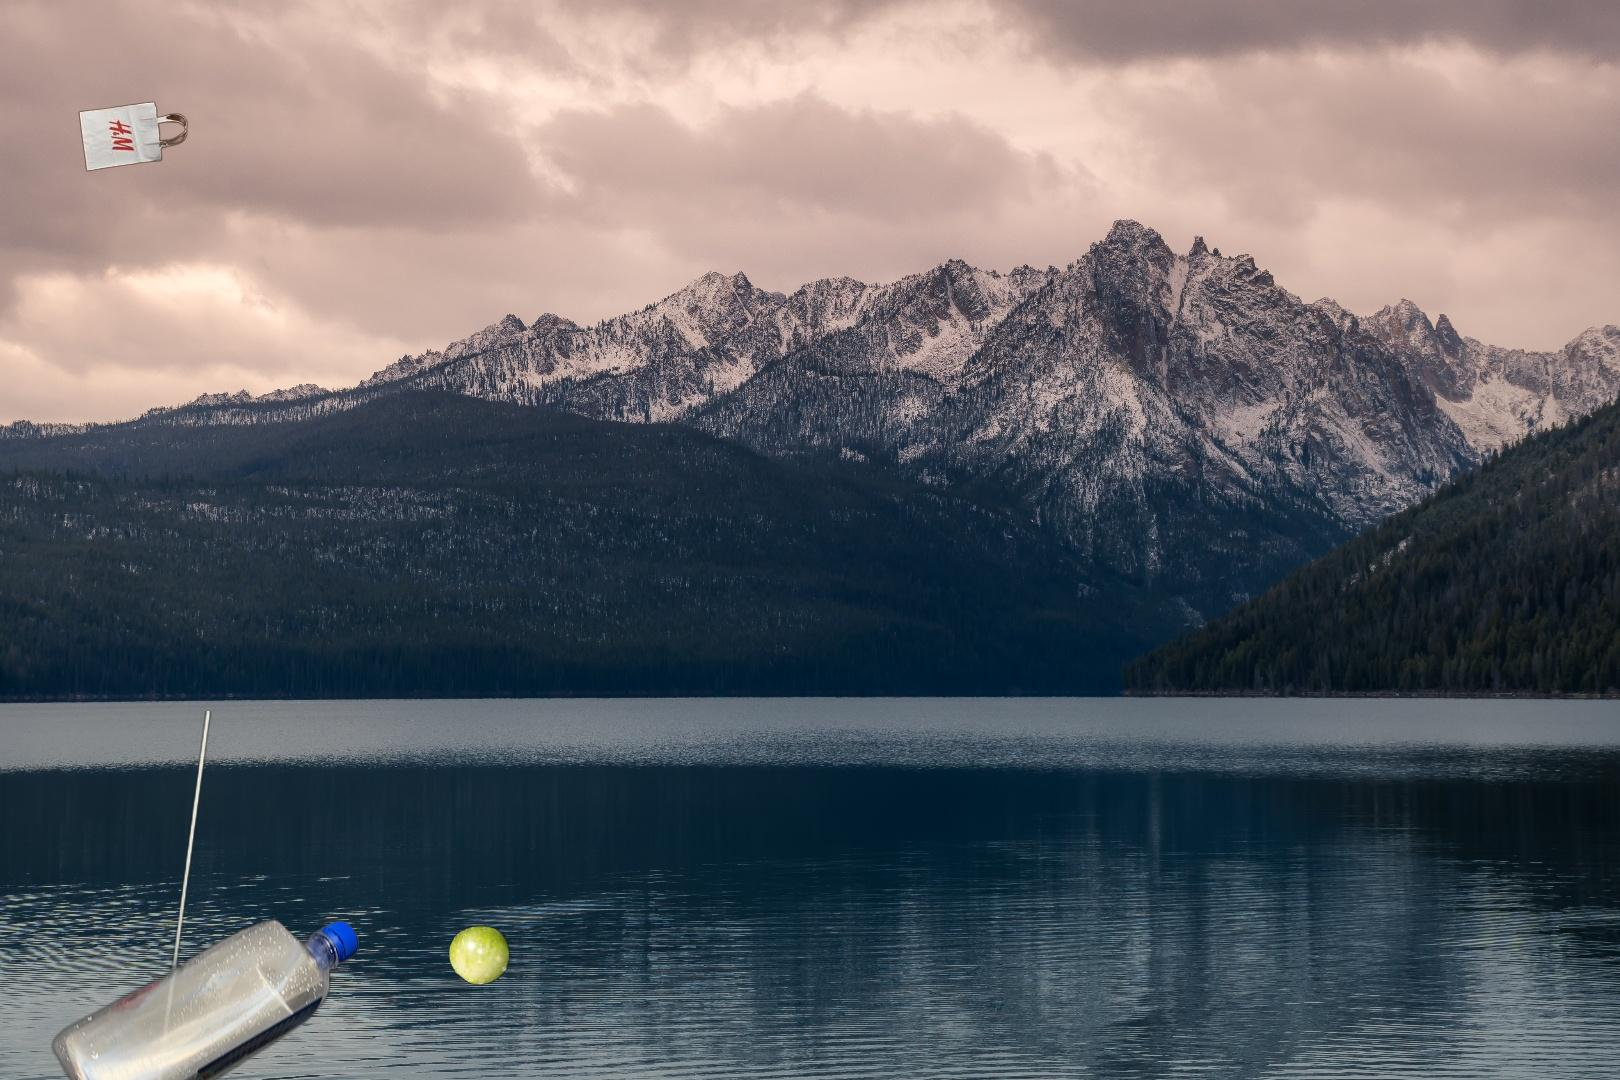biological: (446, 923, 634, 1078)
paper-bag: (76, 100, 190, 174)
plastic-bottles: (48, 711, 372, 1080)
